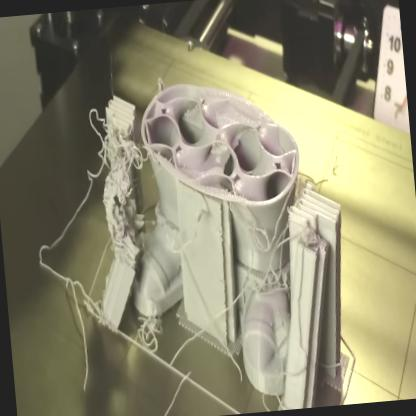fail: (29, 208, 106, 376), (82, 96, 146, 175), (246, 211, 292, 269), (134, 304, 171, 357)
